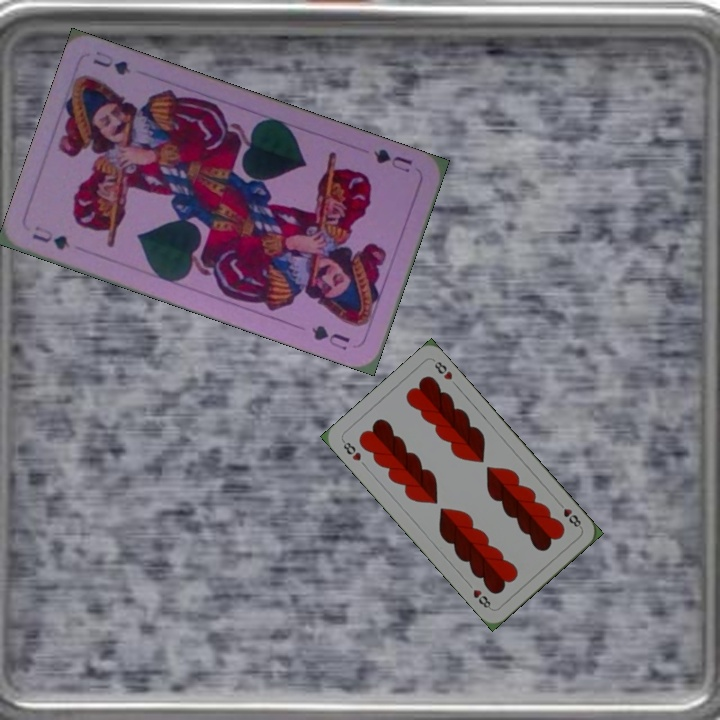GU: (28, 222, 73, 253), (369, 145, 415, 175)
H8: (554, 498, 584, 531), (338, 436, 364, 464)
